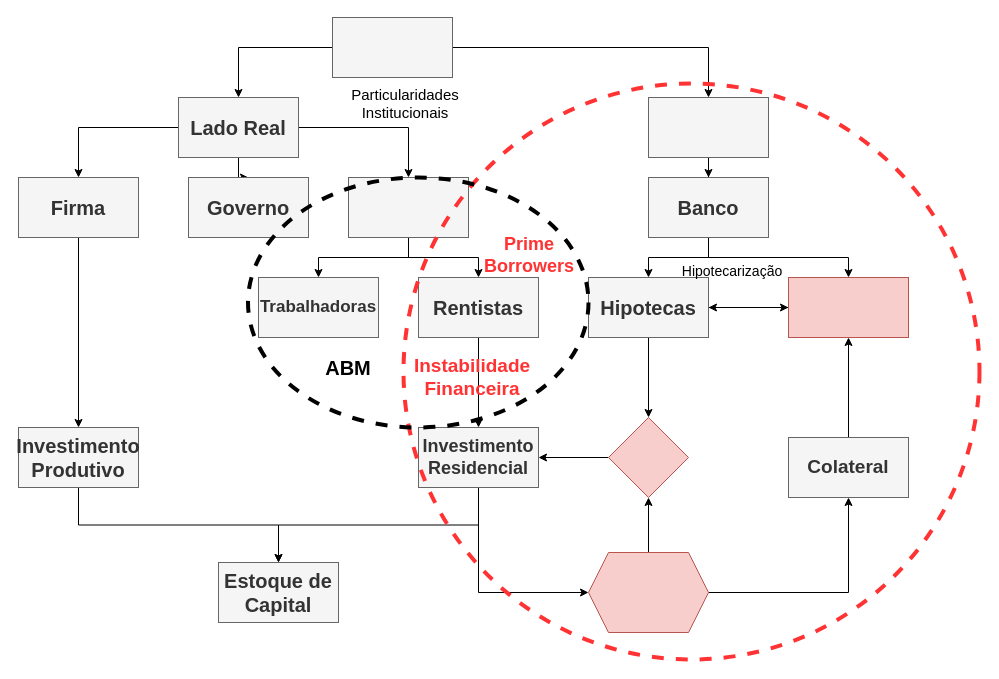
The diagram is 999 pixels wide and 679 high, and some of its shapes have lost their labels. The centre of each missing label's shape, as x and y in pixels:
"Bolha de Ativos" goes at point (648, 592).
"Crédito" goes at point (848, 307).
"Famílias" goes at point (408, 207).
"Lado Financeiro" goes at point (708, 127).
"SFC" goes at point (392, 47).
"Taxa Própria" goes at point (648, 457).
